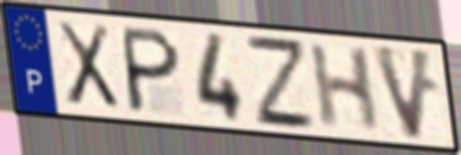4: (192, 28, 247, 125)
H: (306, 42, 382, 134)
P: (122, 24, 183, 117)
V: (368, 41, 437, 144)
X: (53, 19, 122, 112)
Z: (242, 31, 320, 132)
